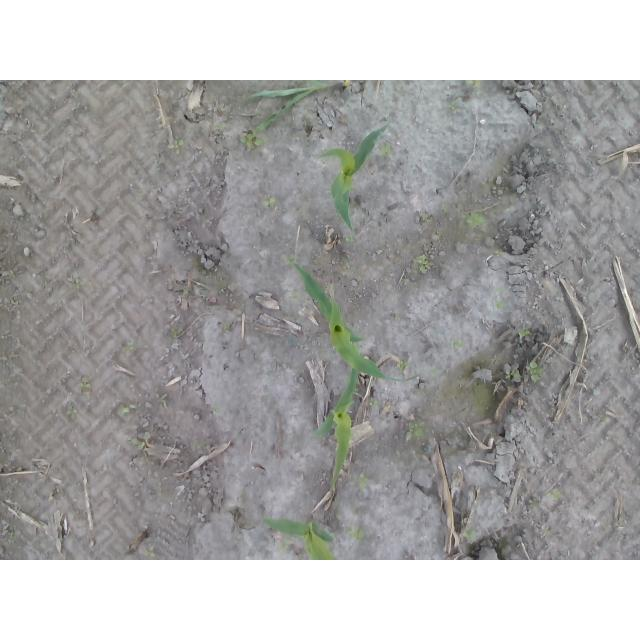Maize: (288, 259, 419, 381), (317, 122, 389, 235), (312, 362, 360, 488), (252, 80, 347, 133), (262, 516, 338, 560)
Weeds: (526, 489, 561, 509), (240, 131, 265, 149), (462, 211, 490, 226), (525, 361, 544, 383), (129, 430, 151, 448), (347, 525, 368, 543), (405, 424, 423, 440), (416, 254, 429, 274), (378, 144, 393, 160), (505, 367, 521, 381), (167, 139, 183, 153), (353, 474, 368, 488), (144, 546, 157, 559), (447, 339, 463, 349), (262, 196, 275, 208), (463, 529, 478, 539), (118, 404, 130, 416), (67, 406, 78, 419), (71, 278, 81, 291), (124, 343, 137, 352), (468, 80, 481, 88), (397, 361, 407, 371), (341, 234, 353, 242), (520, 328, 529, 337), (81, 381, 92, 388), (449, 102, 456, 110), (370, 399, 377, 406), (495, 250, 503, 256)
